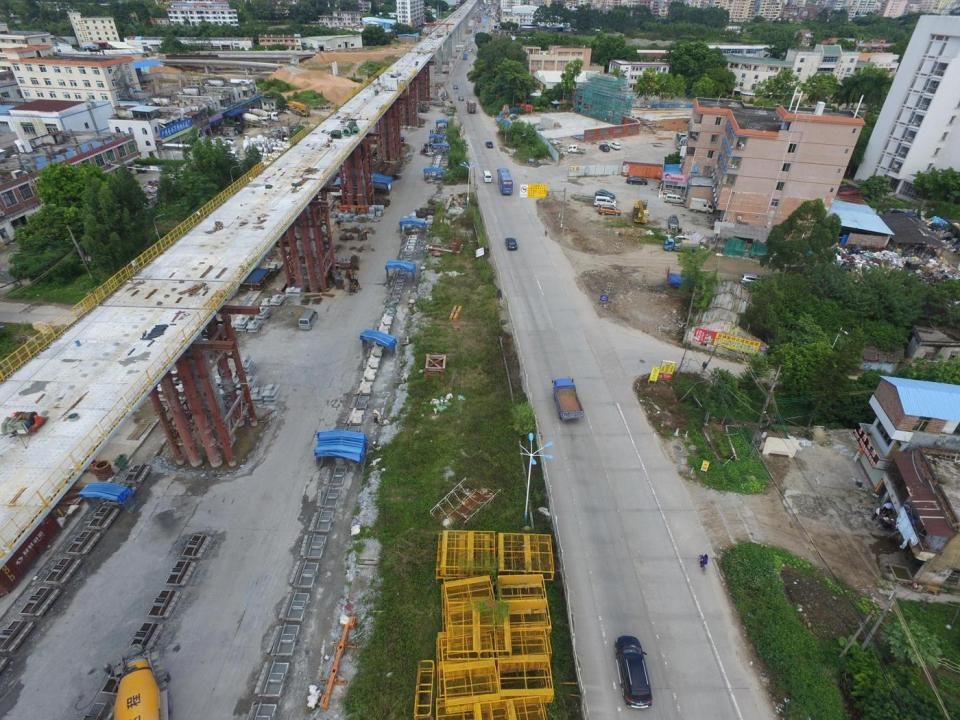bus: (497, 169, 513, 196)
car: (615, 634, 652, 706), (634, 200, 648, 222), (740, 274, 766, 284), (595, 188, 617, 199), (600, 205, 622, 215), (505, 236, 518, 250), (666, 215, 679, 228), (627, 176, 648, 184), (610, 143, 621, 150), (599, 145, 610, 151), (486, 141, 493, 147), (458, 96, 464, 100), (454, 85, 458, 89), (431, 129, 434, 134), (429, 128, 431, 134)
truck: (550, 379, 586, 421), (664, 238, 698, 252), (688, 197, 714, 214), (567, 146, 586, 154), (467, 100, 477, 113), (463, 53, 468, 59)
van: (298, 309, 318, 330), (594, 196, 616, 206), (665, 193, 684, 204), (483, 171, 491, 183)
